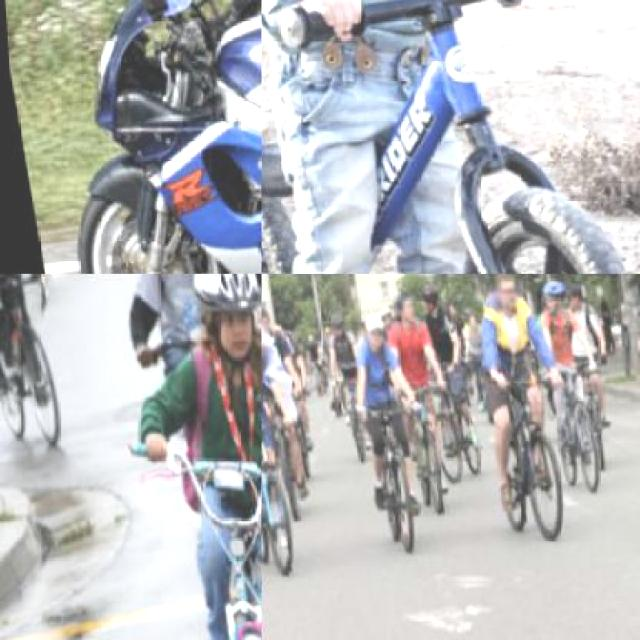With Helmet: (174, 274, 260, 372), (533, 278, 564, 314)
Without Helmet: (483, 274, 520, 321), (357, 311, 385, 358), (387, 295, 413, 323), (261, 321, 274, 374)
